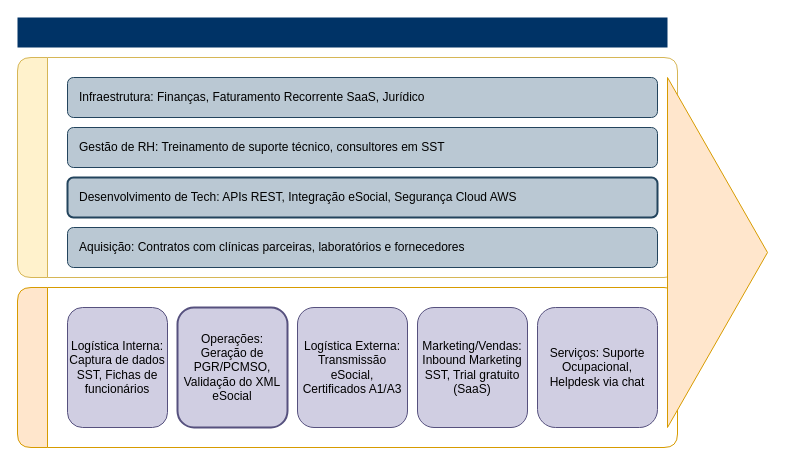
Image size: 785x465. Some labels were removed from this diagram. The shapes that lost their labels are listed below. From the top down, each one's box as (x1, y1, x2, y2) in pixels, then its label:
(17, 17, 667, 47): Sistemas de Informação - Cadeia de Valor - Sistema ESO
(16, 56, 678, 278): ATIVIDADES DE SUPORTE
(666, 76, 768, 428): MARGEM
(16, 286, 678, 448): ATIVIDADES PRIMÁRIAS
